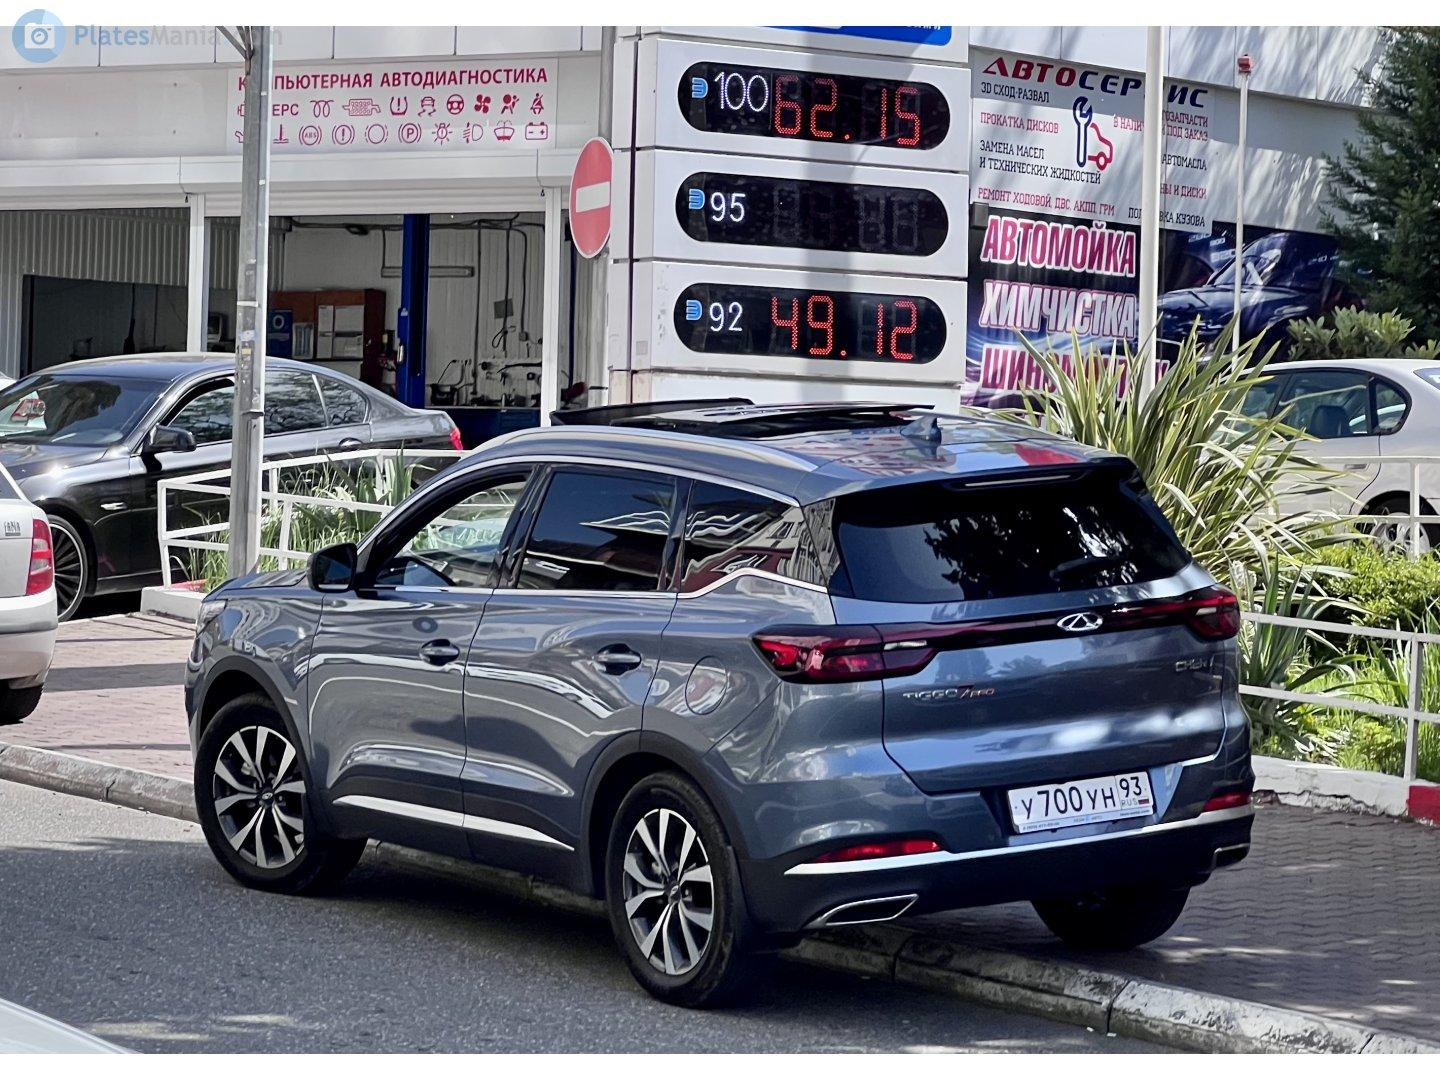license-plateSW: (1010, 773, 1155, 824)
